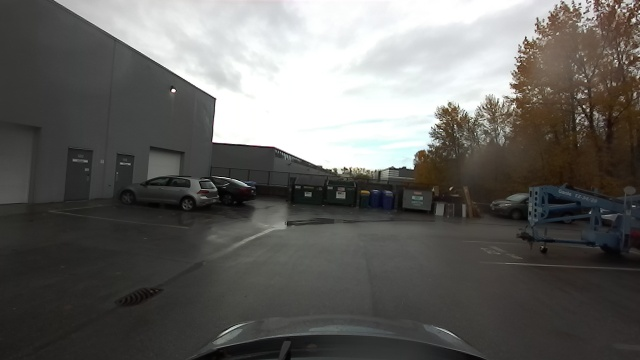car: (117, 174, 219, 213), (489, 192, 527, 222), (221, 177, 255, 207)
